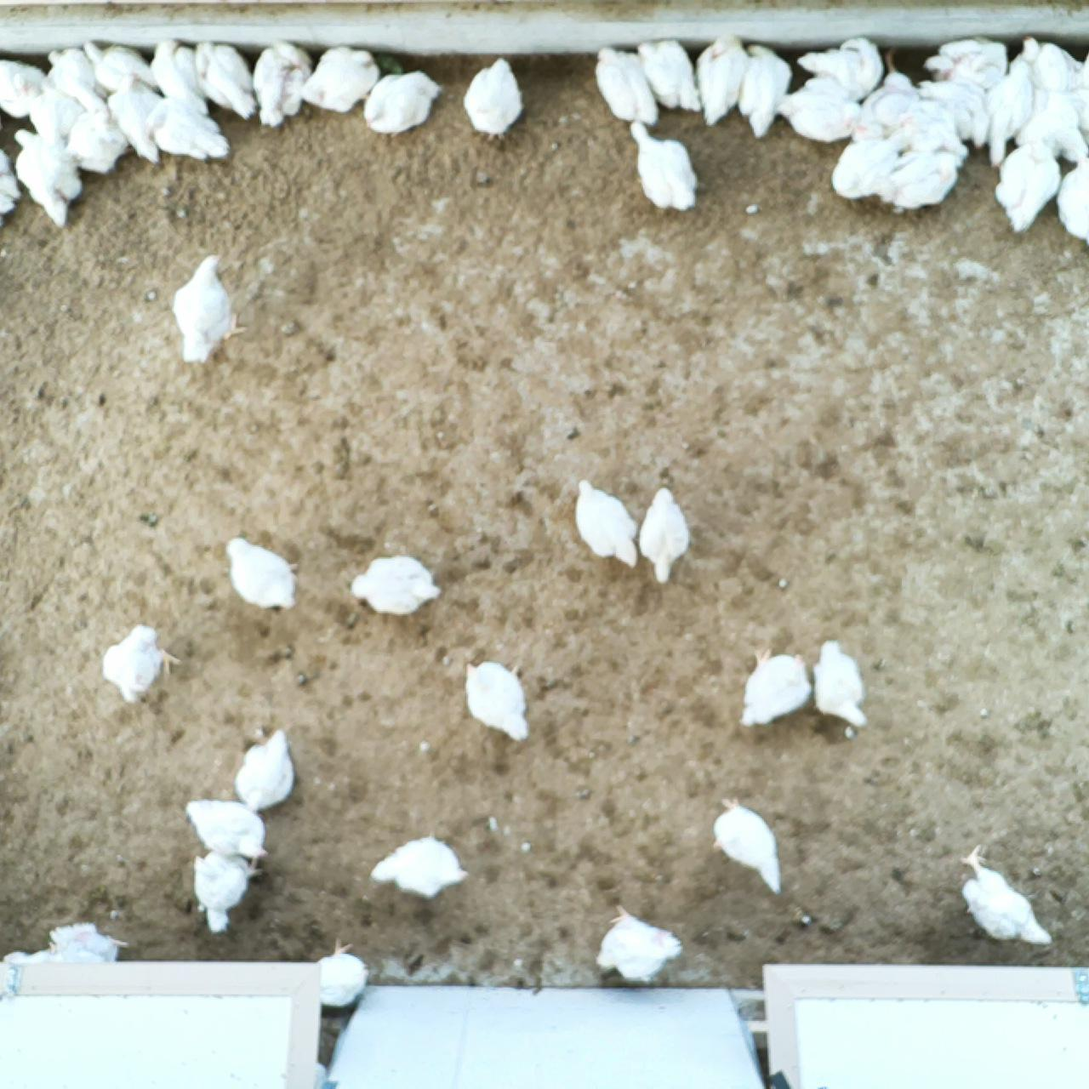chicken: (955, 848, 1056, 948), (167, 253, 242, 362), (10, 123, 84, 222), (593, 900, 680, 979), (849, 47, 921, 142), (627, 120, 702, 211), (713, 792, 781, 892), (737, 644, 816, 729), (569, 476, 641, 569), (992, 137, 1060, 234), (187, 845, 259, 934), (367, 837, 467, 900), (831, 127, 912, 202), (141, 96, 233, 162), (101, 621, 175, 703), (461, 658, 529, 746), (362, 66, 445, 137), (738, 38, 793, 142), (101, 70, 163, 162), (777, 73, 858, 143), (183, 794, 267, 861), (224, 536, 299, 611), (189, 39, 257, 121), (352, 553, 440, 616), (302, 44, 382, 113), (812, 636, 871, 729), (633, 39, 701, 118), (797, 37, 883, 99), (1017, 83, 1089, 157), (638, 483, 690, 585), (981, 57, 1029, 167), (464, 56, 525, 142), (917, 75, 988, 148), (588, 45, 657, 120), (917, 36, 1014, 89), (236, 727, 297, 811), (250, 40, 307, 128), (890, 93, 969, 156), (692, 34, 747, 124), (84, 35, 160, 97), (300, 940, 369, 1006), (66, 107, 131, 176), (150, 37, 209, 113), (48, 44, 107, 114), (6, 944, 100, 981), (29, 74, 84, 137), (1022, 37, 1073, 97), (50, 923, 122, 963), (1054, 155, 1089, 237), (0, 55, 45, 114), (1067, 54, 1089, 128), (0, 143, 20, 218)
